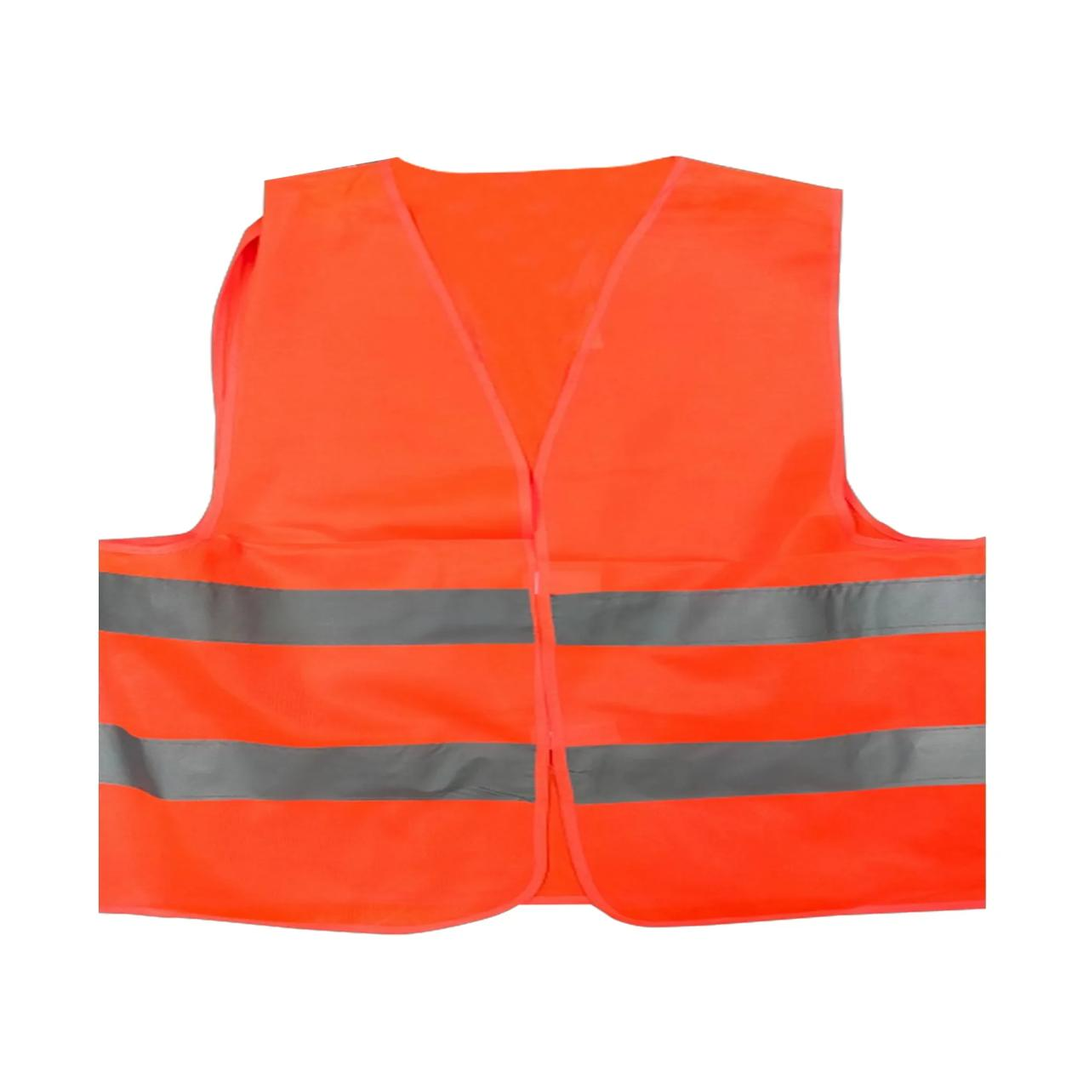Safety_Vest: (64, 139, 1030, 969)
